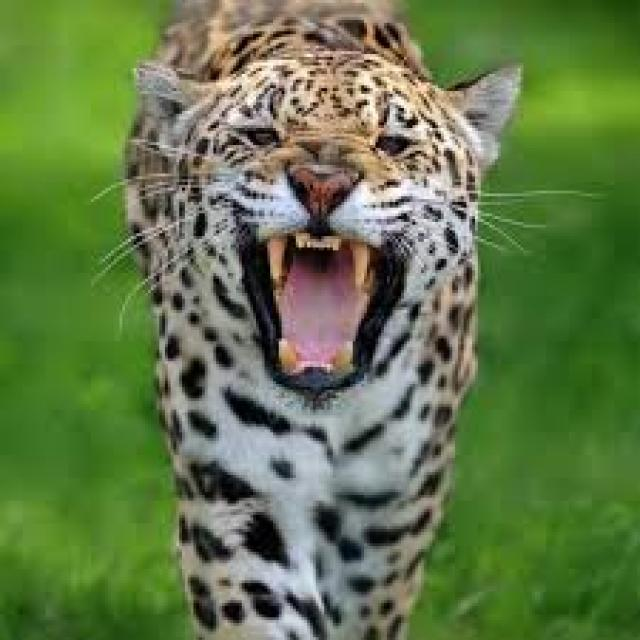Jaguar: (119, 0, 552, 640)
